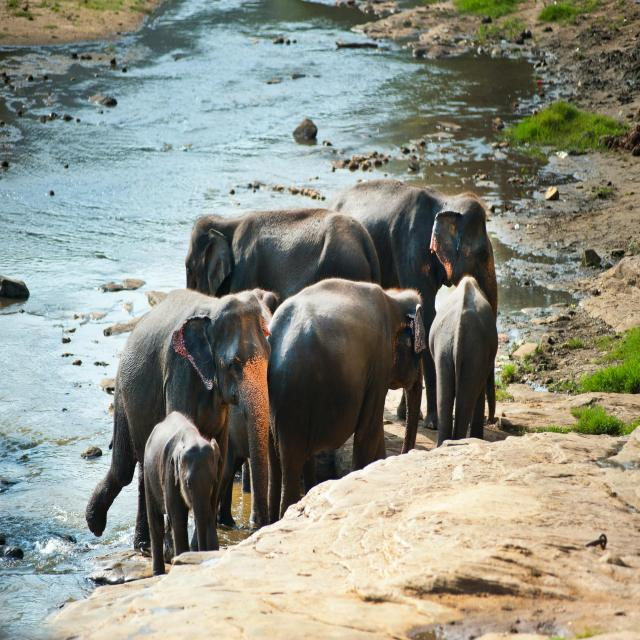Elephant: (86, 288, 272, 558), (184, 207, 383, 434), (328, 176, 498, 431), (268, 279, 426, 517), (144, 410, 222, 576), (428, 275, 498, 449)
